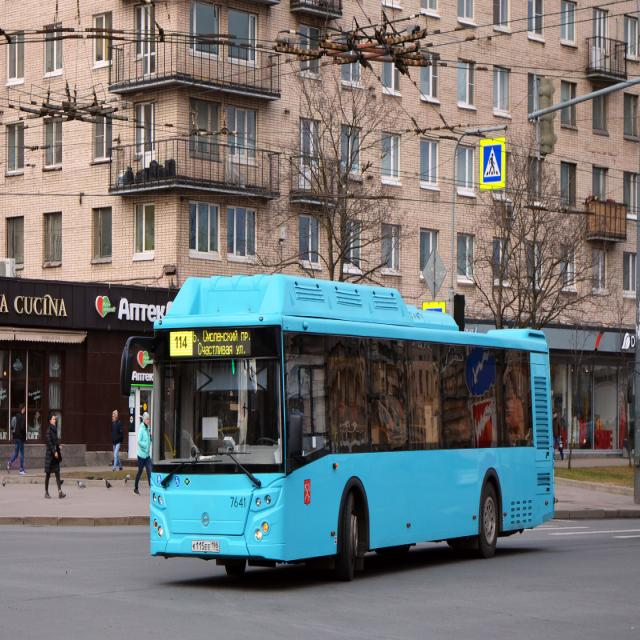number-of-bus: (174, 334, 192, 354)
